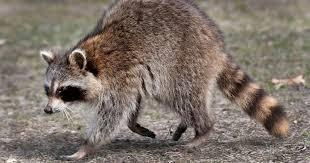raccoon: (18, 0, 306, 163)
